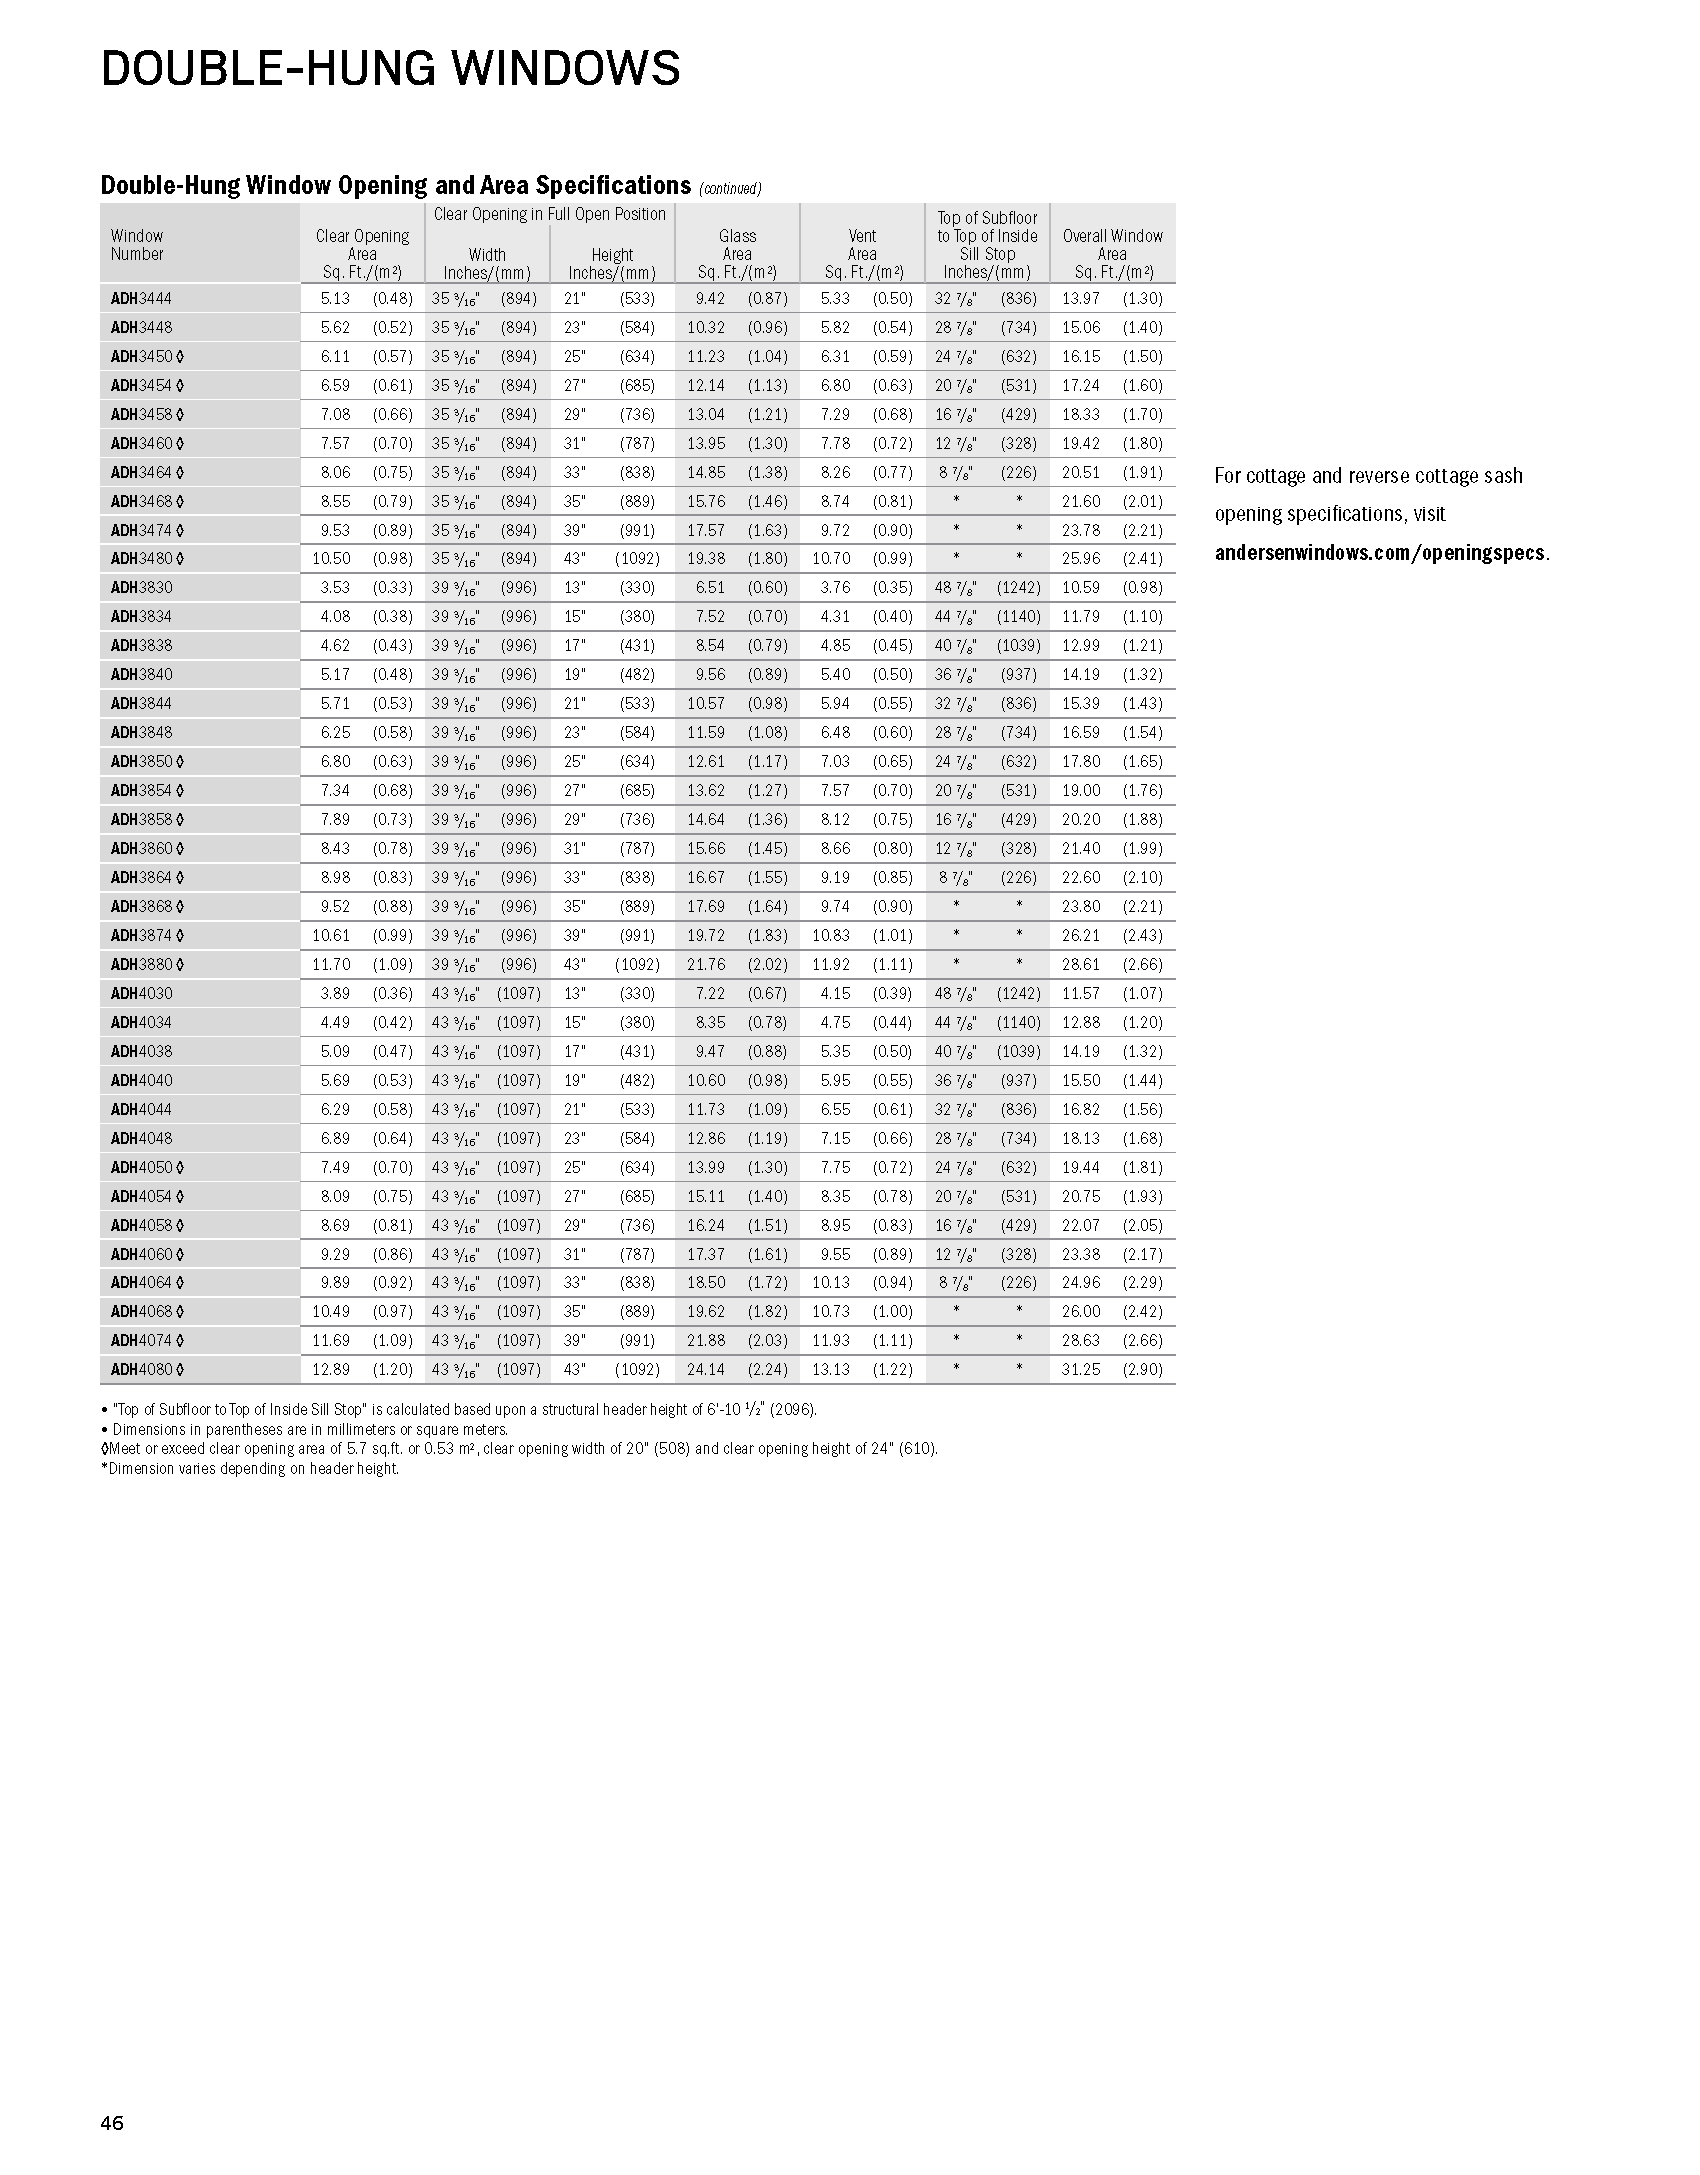tabledetected: (104, 203, 1172, 1386)
